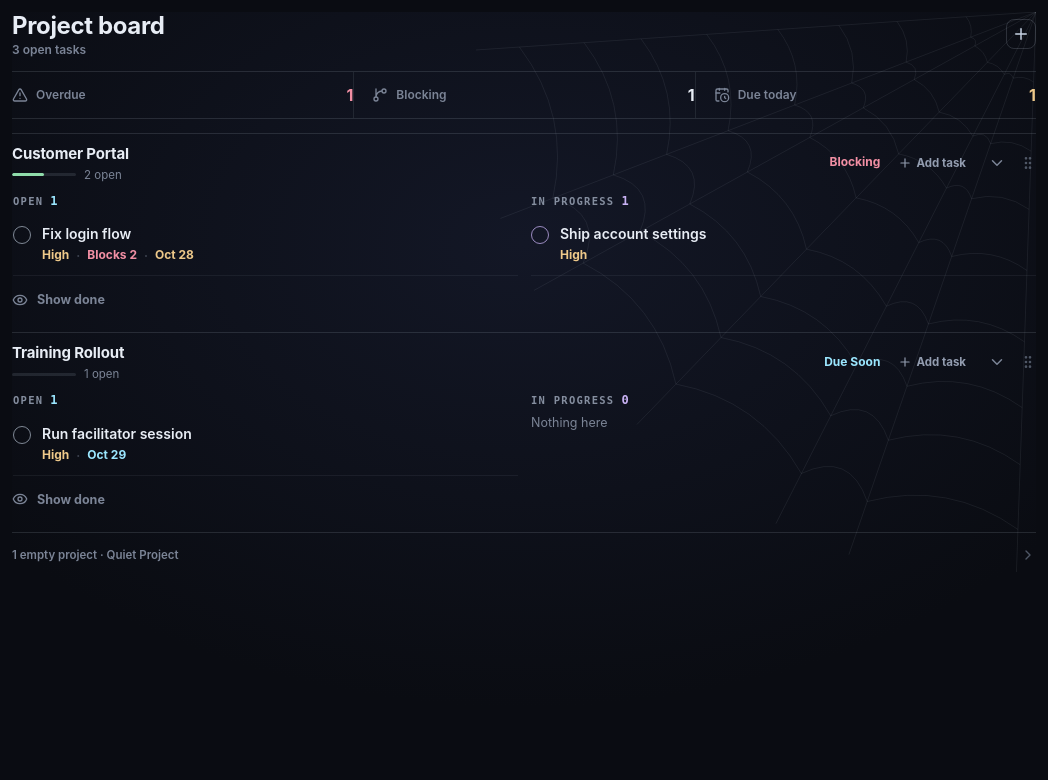
DashboardPage › filters lanes through the signal strip and clears on second click
This screenshot has width=1048, height=780.
Expected: the heading "Project board" is shown, top-left (12, 11), bottom-right (164, 40)
Expected: the button with aria-label "Blocking: 1 task" is shown, top-left (353, 72), bottom-right (695, 118)
Click the button with aria-label "Overdue: 1 task". click: (61, 95)
box: top-left (12, 72), bottom-right (353, 118)
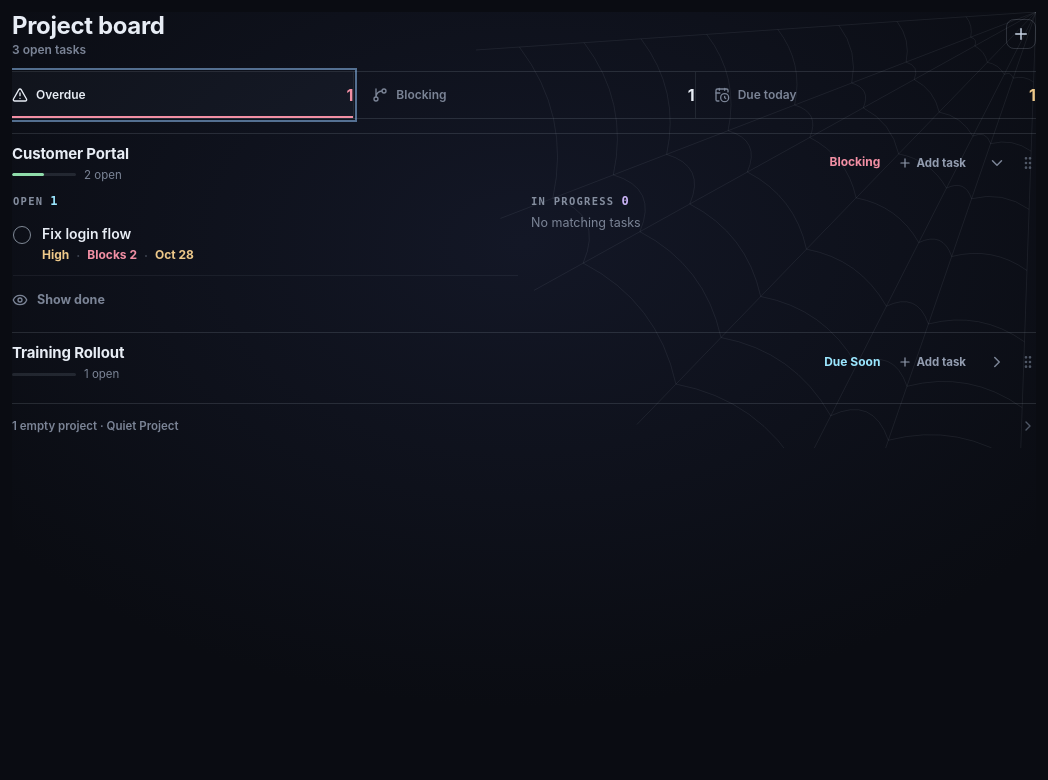
Expected: the text "Fix login flow" is shown, top-left (42, 225), bottom-right (131, 242)
Expected: the link "Ship account settings" is gone
Expected: the link "Run facilitator session" is gone
Click the button with aria-label "Overdue: 1 task". click: (61, 95)
box: top-left (12, 72), bottom-right (353, 118)
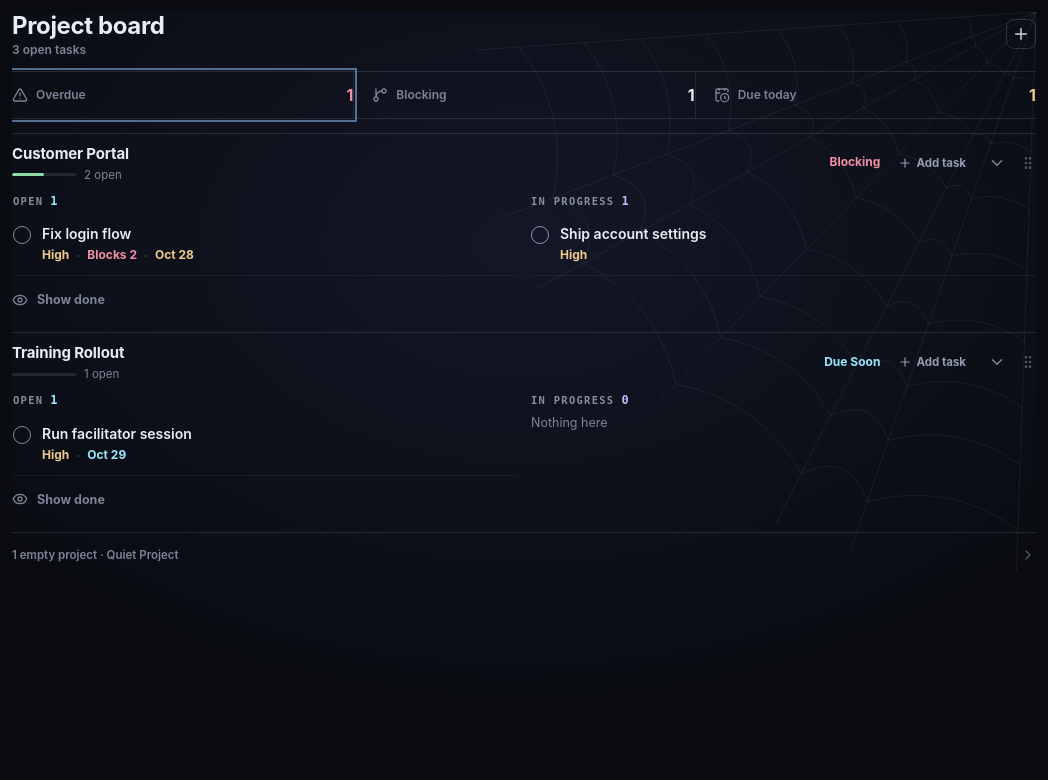
Expected: the text "Ship account settings" is shown, top-left (560, 225), bottom-right (706, 242)
Expected: the text "Run facilitator session" is shown, top-left (42, 425), bottom-right (192, 442)
